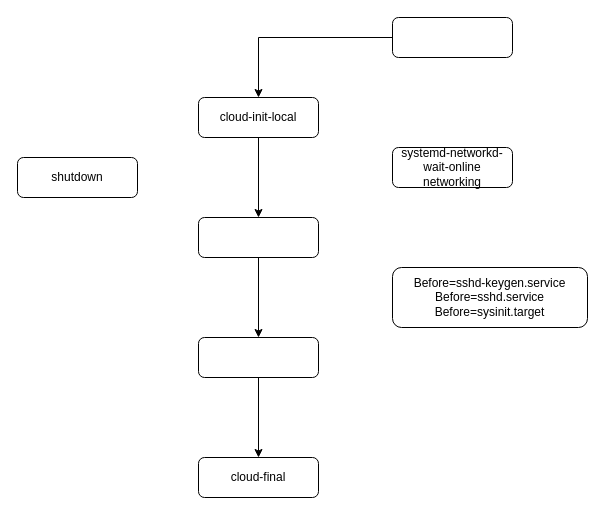
Some shapes in this 605 by 515 pixel diagram are drawn without their labels. Each missing label, with the centre of its shape:
"cloud-config" goes at point (258, 357).
"cloud-init" goes at point (258, 237).
"systemd-remount-fs" goes at point (452, 37).
